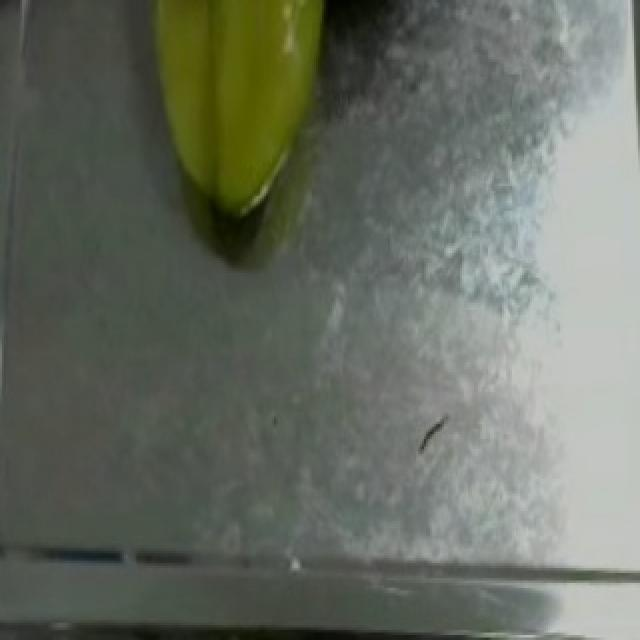fruit: (124, 0, 362, 243)
